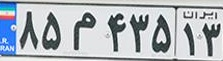character: (70, 9, 99, 53), (40, 8, 65, 52), (17, 9, 41, 53), (106, 8, 128, 55), (129, 10, 151, 56), (151, 12, 173, 57), (200, 19, 223, 60), (179, 18, 200, 55)
